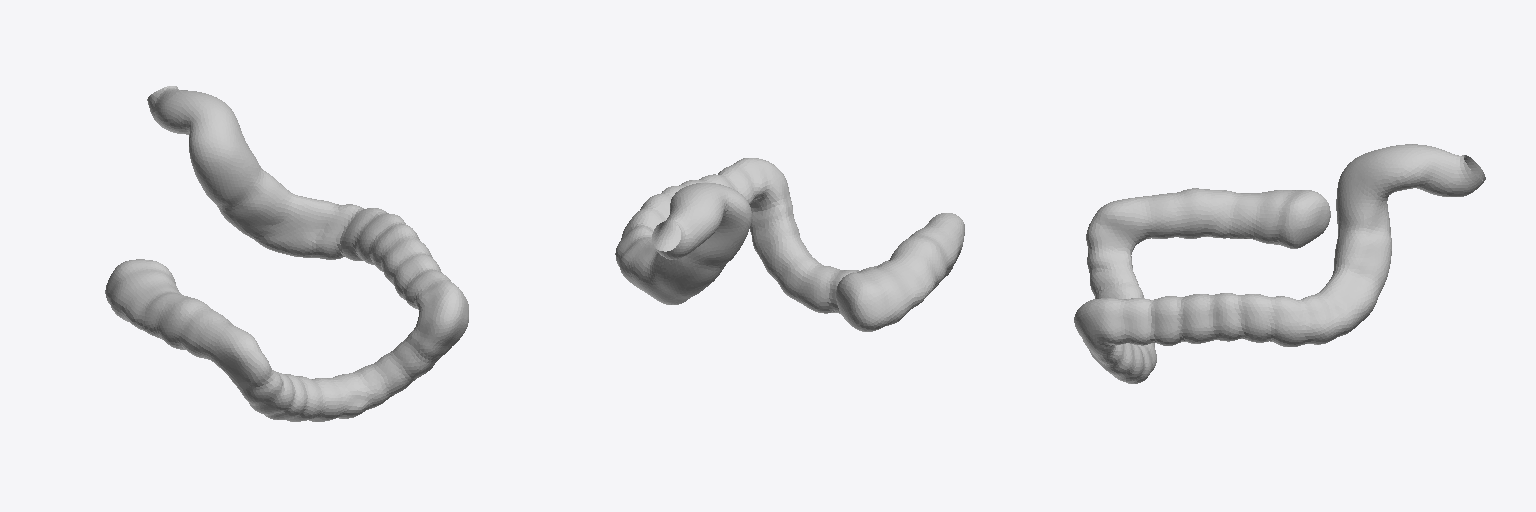
Rendered from ColonSTL1_training_smooth.obj.
3 renders of one model, left to right at view 1: azimuth 30°, elevation 25°; view 2: azimuth 150°, elevation 25°; view 3: azimuth 270°, elevation 25°, orthographic.
Parts seen in each view (by area): view 1: ColonSTL1_training; view 2: ColonSTL1_training; view 3: ColonSTL1_training.
Part boxes in pixels (x1,y1,x2,y2): ColonSTL1_training: (105,86,468,421); ColonSTL1_training: (615,158,964,331); ColonSTL1_training: (1074,144,1485,383).
Size of the model in its own units: 306 by 232 by 388.